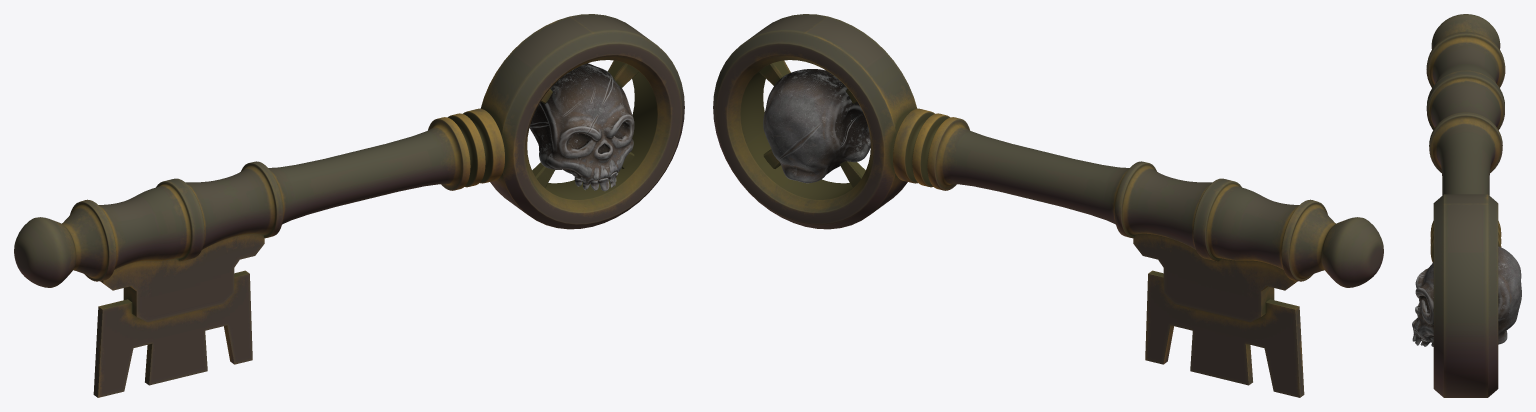
The model's file is Stylized_Key.fbx.
The picture shows the model from 3 angles, left to right: view 1: azimuth 30°, elevation 25°; view 2: azimuth 150°, elevation 25°; view 3: azimuth 270°, elevation 25°; orthographic projection. The views are drawn at different scales.
Visible parts, largest first — view 1: Stylized_Key; view 2: Stylized_Key; view 3: Stylized_Key.
Part boxes in pixels (x1,y1,x2,y2): Stylized_Key: (14,14,684,397); Stylized_Key: (713,14,1383,397); Stylized_Key: (1412,14,1521,397).
Bounding box in the file's own units: 0.22 × 0.0816 × 0.0337.
